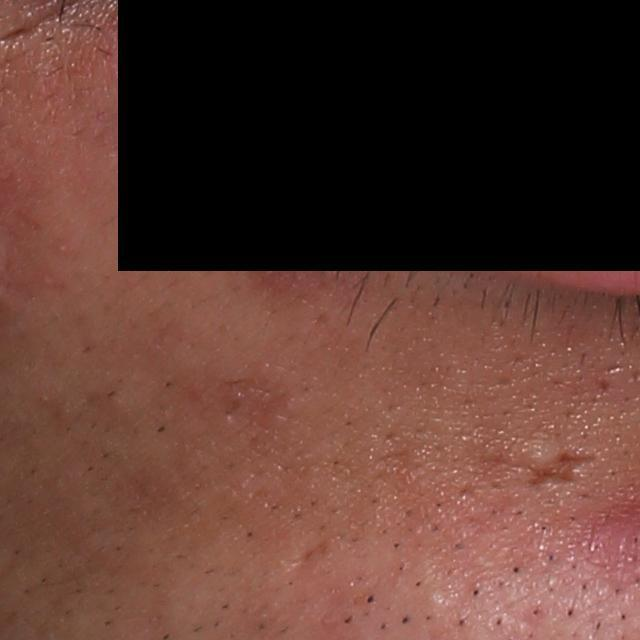atrophic_scar: (534, 448, 607, 487), (286, 534, 332, 574)
hypertrophic_scar: (522, 439, 561, 468)
